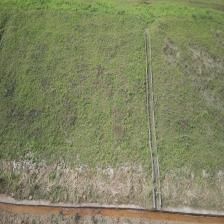slope_drain: (148, 35, 163, 210), (144, 29, 149, 104)
